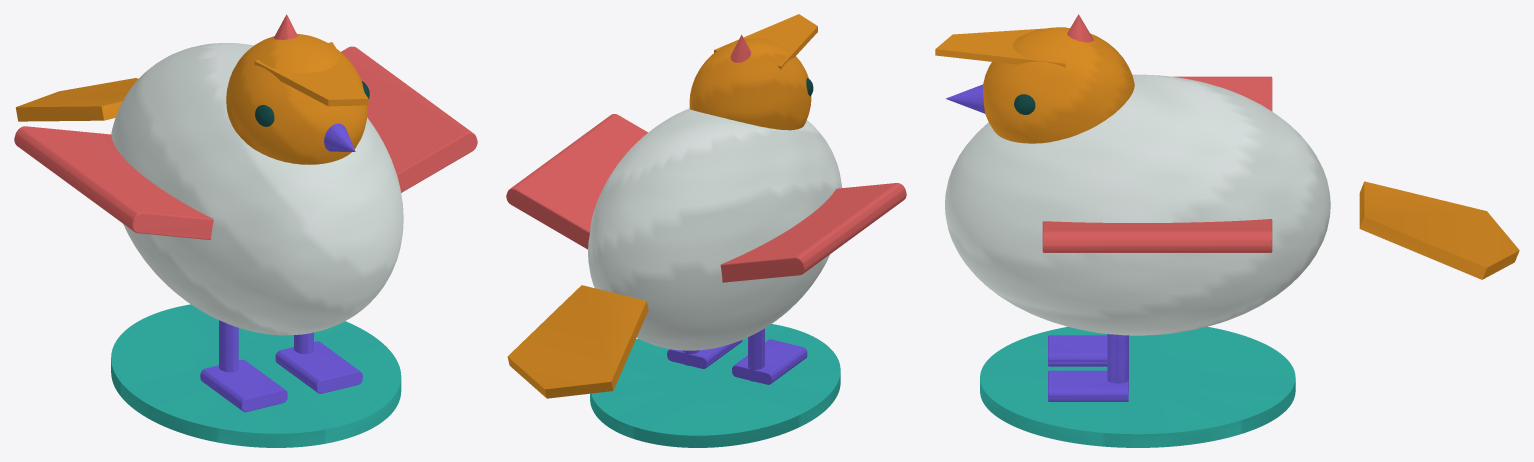
Rendered from 0068_鸟类图鉴_蓝脚鲣鸟.glb.
The picture shows the model from 3 angles, left to right: view 1: azimuth 30°, elevation 25°; view 2: azimuth 150°, elevation 25°; view 3: azimuth 270°, elevation 25°; orthographic projection. The views are drawn at different scales.
Parts seen in each view (by area): view 1: card_0068; view 2: card_0068; view 3: card_0068.
Boxes of the visible parts, box(x1,y1,x2,y2) form: card_0068: box(14, 14, 477, 447); card_0068: box(506, 14, 906, 447); card_0068: box(935, 14, 1519, 447).
Size of the model in its own units: 0.9277 by 1 by 1.4.
